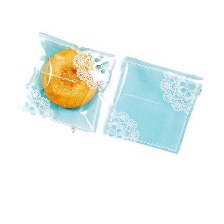snack: (97, 51, 209, 160), (16, 28, 120, 139)
